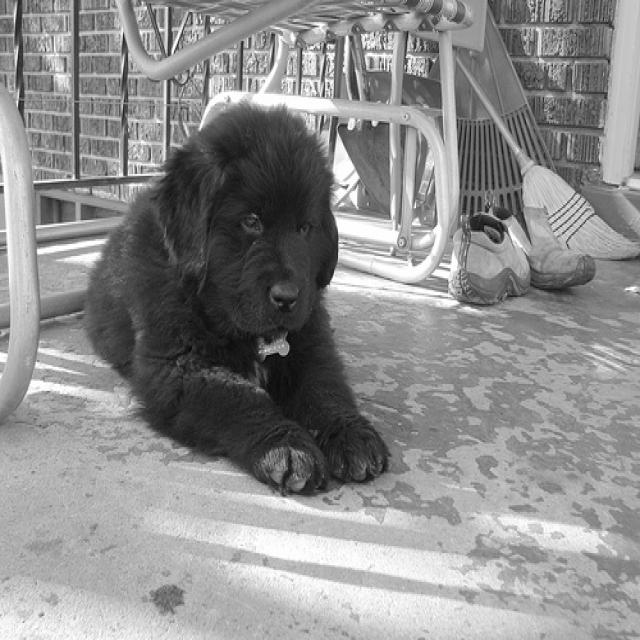dog-newfoundland: (78, 87, 388, 500)
